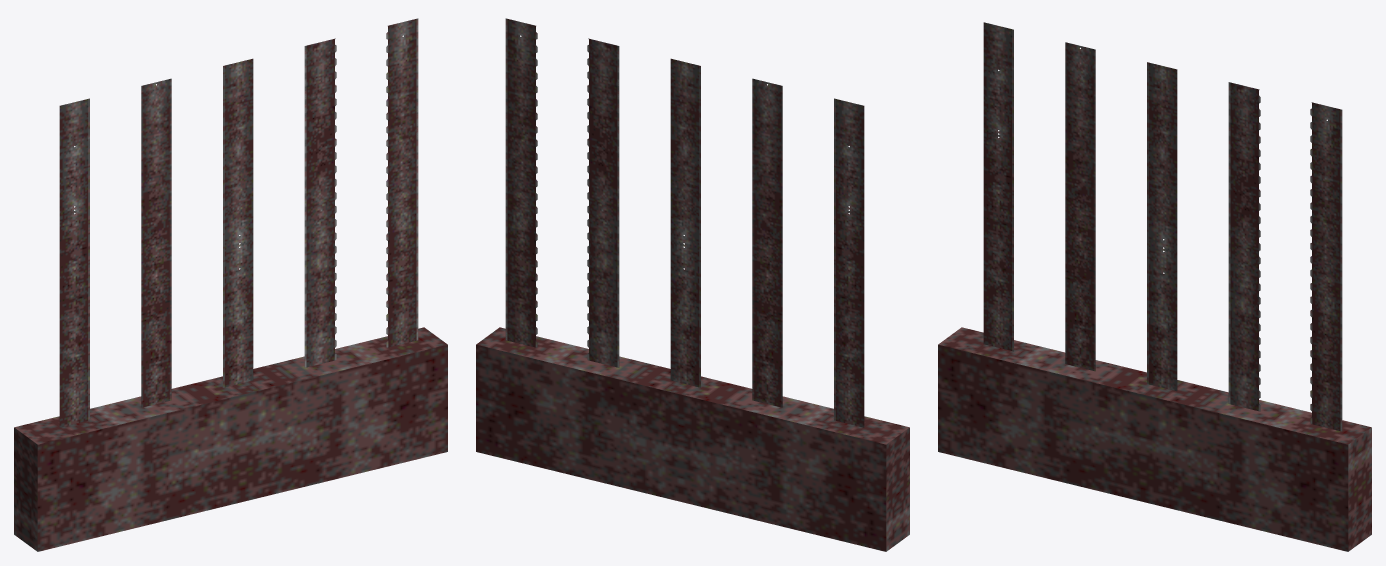
File: PrisonBar.obj
The picture shows the model from 3 angles, left to right: view 1: azimuth 30°, elevation 25°; view 2: azimuth 150°, elevation 25°; view 3: azimuth 330°, elevation 25°; orthographic projection.
Visible parts, largest first — view 1: mesh01, cube01; view 2: mesh01, cube01; view 3: mesh01, cube01.
Part boxes in pixels (x1,y1,x2,y2): mesh01: (14, 327, 447, 551); cube01: (59, 18, 418, 427); mesh01: (476, 327, 909, 551); cube01: (505, 18, 864, 427); mesh01: (938, 327, 1371, 551); cube01: (983, 22, 1342, 431).
Size of the model in its own units: 10 by 10 by 1.
2 materials, 2 textured.
